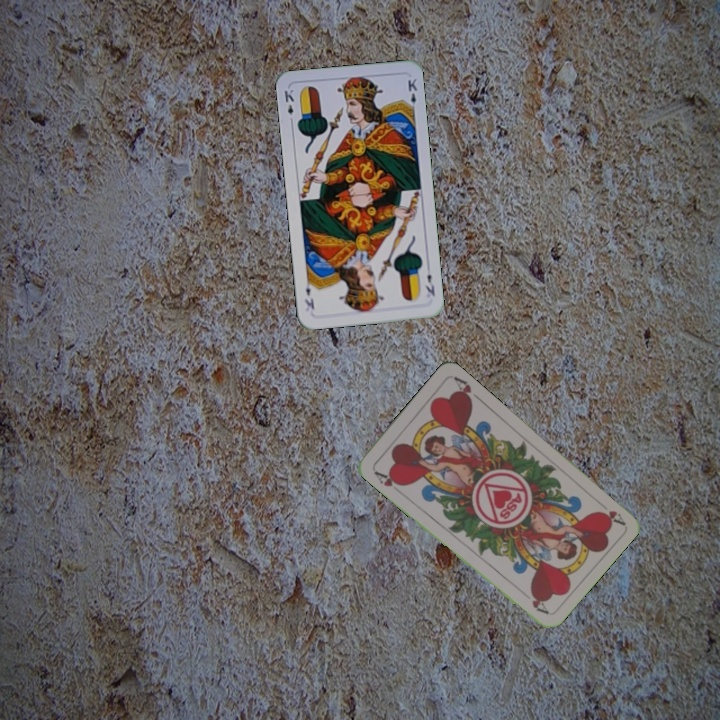EK: (280, 85, 296, 126), (421, 270, 438, 298)
HA: (592, 496, 627, 527), (370, 467, 406, 496)
